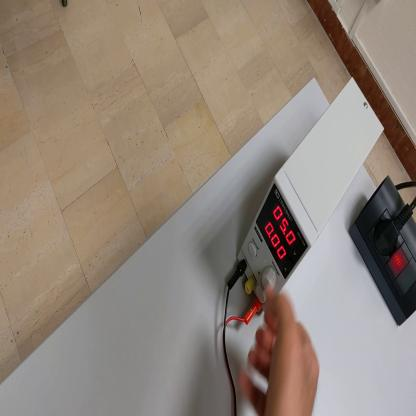hand: (241, 287, 321, 415)
power supply: (238, 77, 385, 313)
socket: (348, 180, 416, 329)
